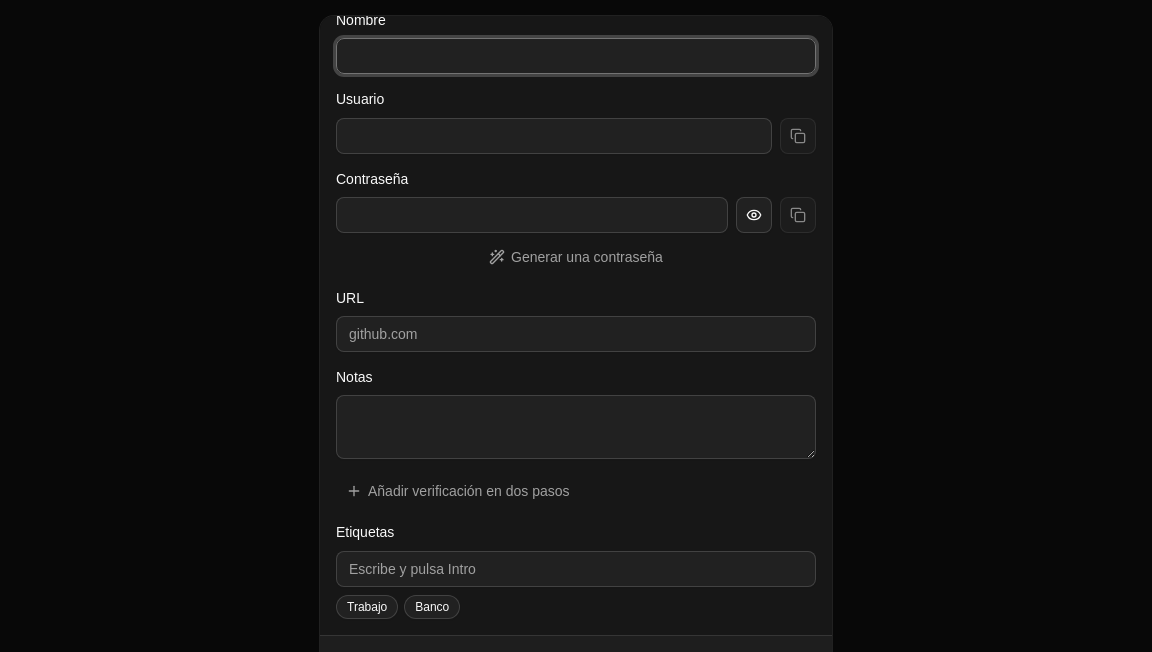
Test case: creating › offers the tags the vault already uses
(page scrolled)
Click the button "Trabajo": click(367, 606) [336,594,398,618]
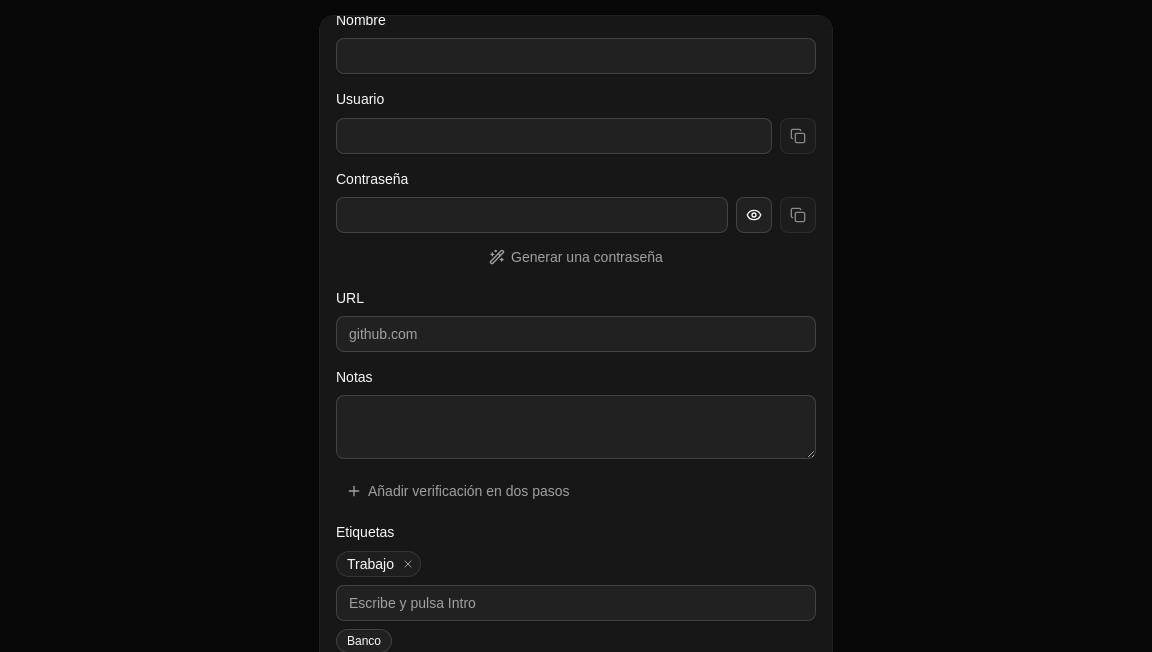
Result: the button named "Quitar la etiqueta Trabajo" is shown at [398,554,418,574]
